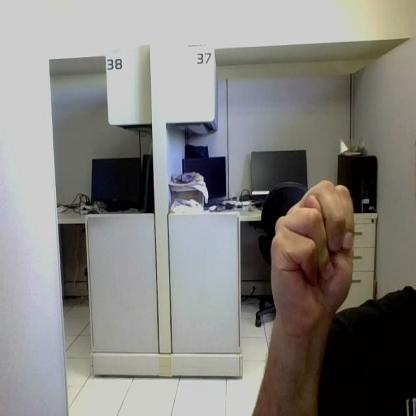N: (270, 181, 352, 331)
